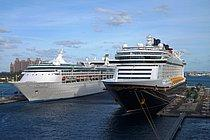Ship: (101, 33, 193, 116), (8, 46, 121, 102)
